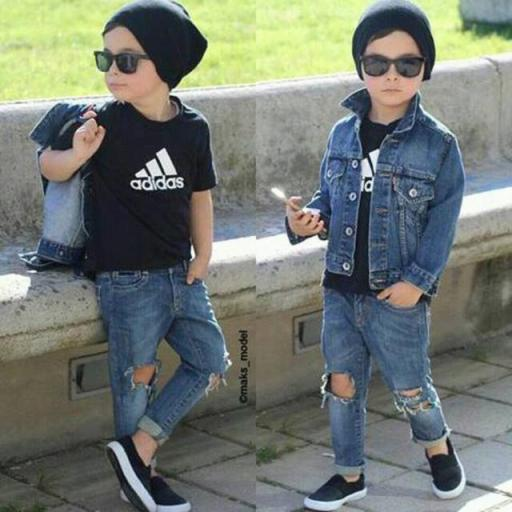Adidas: (126, 146, 188, 194)
